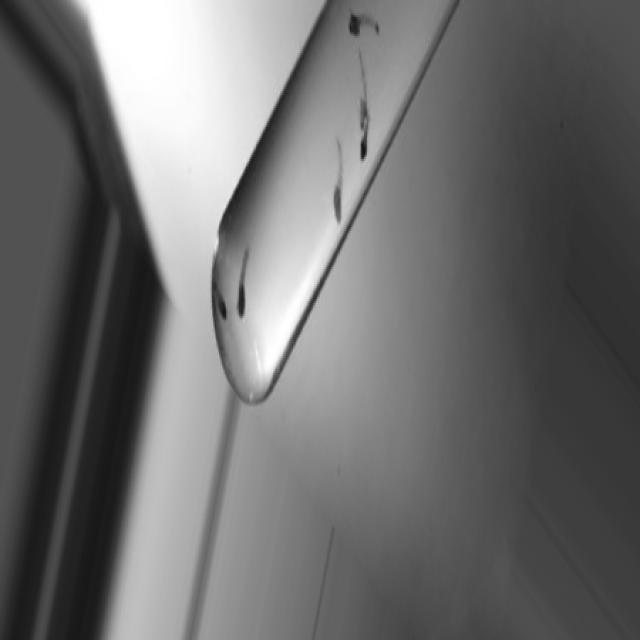larvas: (237, 247, 254, 313), (332, 141, 344, 221), (356, 51, 369, 116), (348, 11, 381, 35), (358, 121, 373, 156), (214, 287, 230, 317)
